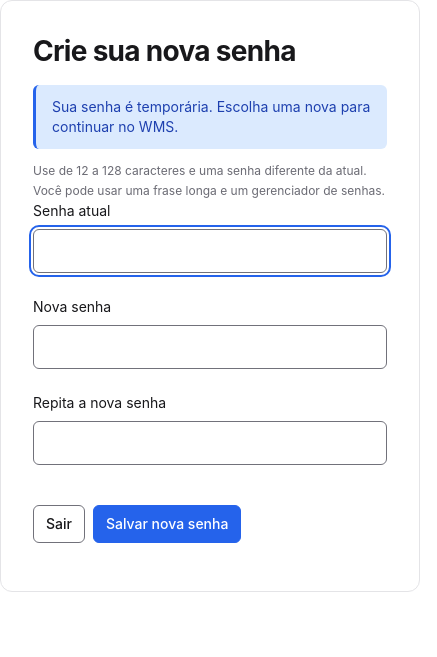
login real › explica senha invalida antes de enviar: curta
The width and height of the screenshot is (437, 657).
Type "Fixture-atual-123!" into the password field labelled "Senha atual" at (210, 251), box [33, 229, 387, 273]
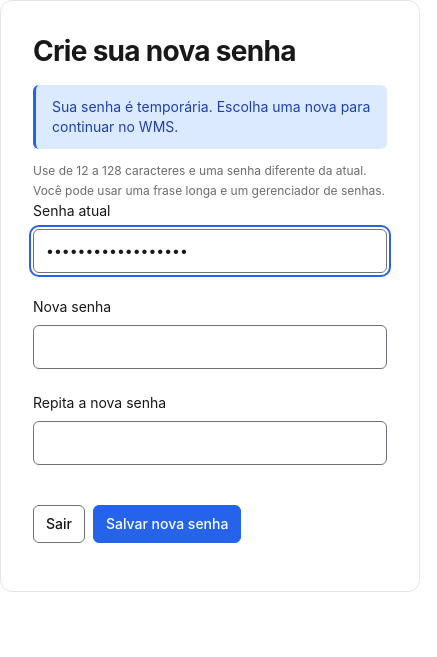
Type "curta" into the password field labelled "Nova senha" at (210, 347), box [33, 325, 387, 369]
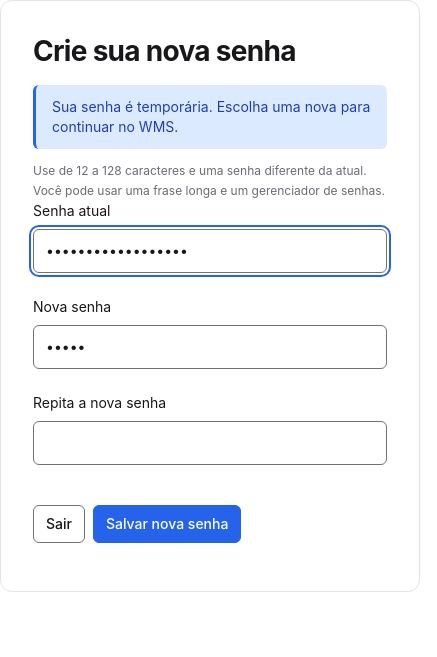
Type "curta" into the password field labelled "Repita a nova senha" at (210, 443), box [33, 421, 387, 465]
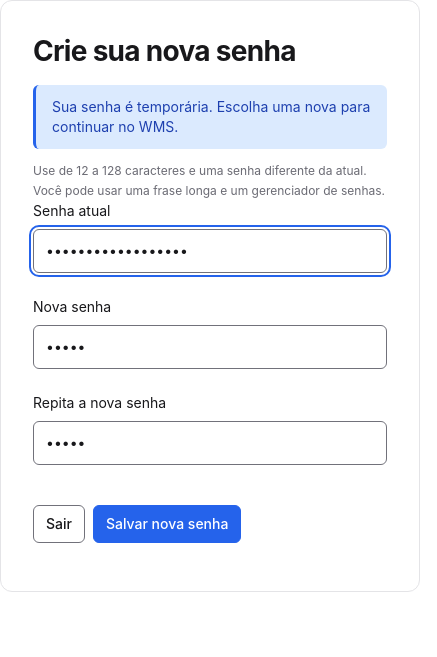
Submit the form "Salvar nova senha", box [33, 201, 387, 559]
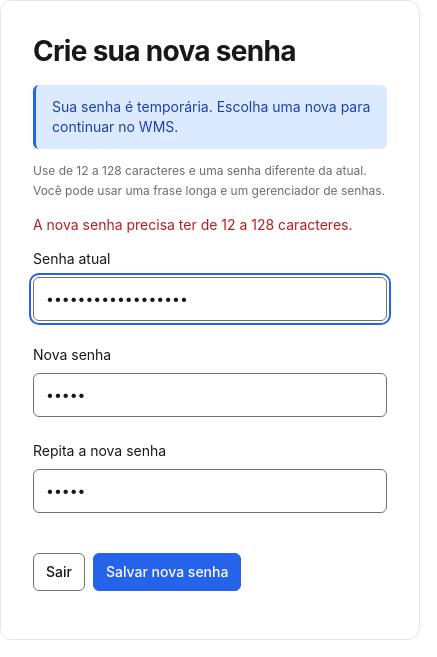
Expected: the message reads "A nova senha precisa ter de 12 a 128 caracteres.", [33, 216, 352, 233]
